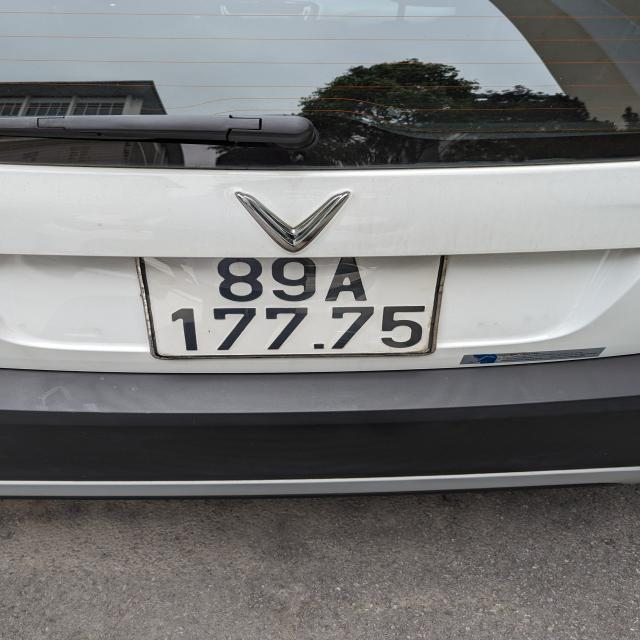license: (136, 253, 445, 358)
